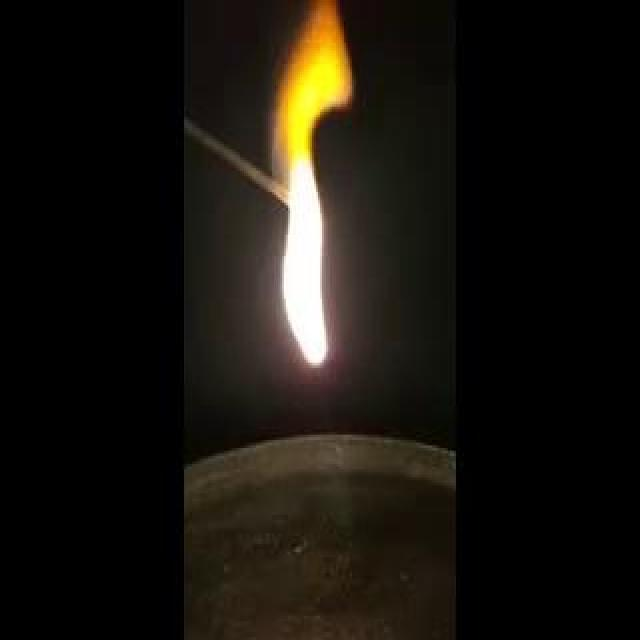Fire: (78, 226, 305, 328)
